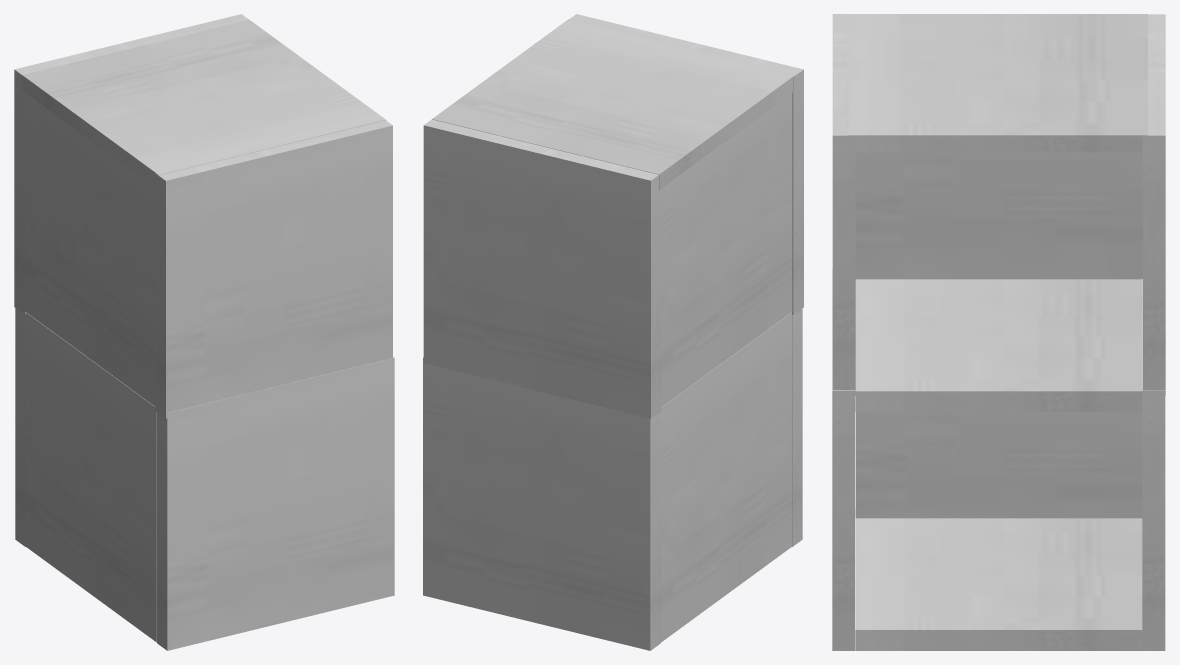
File: lemariBukuKecil_putih.gltf
3 renders of one model, left to right at view 1: azimuth 30°, elevation 25°; view 2: azimuth 150°, elevation 25°; view 3: azimuth 270°, elevation 25°, orthographic. The views are drawn at different scales.
Parts seen in each view (by area): view 1: Cube.002, Cube.003, Cube.001, Cube.011, Cube.005, Cube.007, Cube.004; view 2: Cube.007, Cube.004, Cube.001, Cube.011, Cube.005, Cube.002, Cube.003; view 3: Cube.001, Cube.010, Cube.006, Cube.005, Cube.011, Cube.007, Cube.002, Cube.004, Cube.003.
Part boxes in pixels (x1,y1,x2,y2): Cube.002: [155, 120, 392, 418]; Cube.003: [157, 357, 394, 650]; Cube.001: [22, 19, 385, 187]; Cube.011: [25, 312, 156, 642]; Cube.005: [25, 93, 155, 406]; Cube.007: [14, 14, 248, 314]; Cube.004: [15, 308, 25, 546]; Cube.007: [423, 119, 661, 418]; Cube.004: [423, 357, 660, 650]; Cube.001: [432, 19, 795, 189]; Cube.011: [661, 312, 791, 642]; Cube.005: [661, 93, 792, 407]; Cube.002: [570, 14, 803, 314]; Cube.003: [792, 308, 802, 546]; Cube.001: [848, 14, 1147, 152]; Cube.010: [855, 279, 1142, 412]; Cube.006: [855, 509, 1142, 650]; Cube.005: [855, 152, 1142, 279]; Cube.011: [855, 412, 1142, 518]; Cube.007: [1143, 14, 1165, 395]; Cube.002: [832, 14, 855, 395]; Cube.004: [1142, 278, 1165, 650]; Cube.003: [832, 269, 854, 650].
Bounding box in the file's own units: 0.8855 × 1.74 × 1.02.
11 materials, 9 textured.
